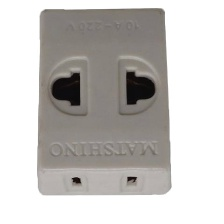three_eye_plug: (35, 6, 175, 199)
